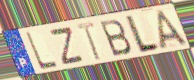A: (156, 7, 191, 51)
B: (98, 18, 134, 58)
L: (125, 14, 162, 56), (24, 31, 60, 72)
T: (75, 20, 102, 62)
Z: (49, 25, 86, 67)
